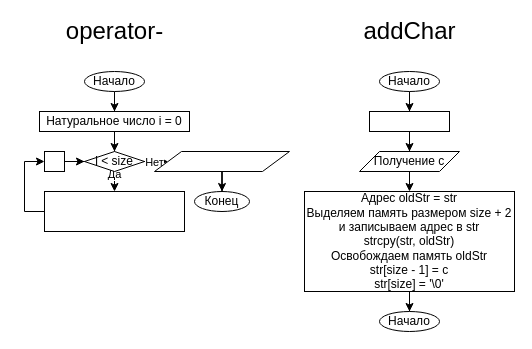
Some shapes in this 532 by 349 pixel diagram are drawn without their labels. Here are the shapes that lost their labels. From the top down, the centre of each, then its label:
At (x=409, y=121): "Символ c".
At (x=54, y=161): "++i".
At (x=222, y=161): "Возвращение *this".
At (x=114, y=211): "Символ t = str[i] str[i] = str[size - (i + 1)] str[size - (i + 1)] = t".
